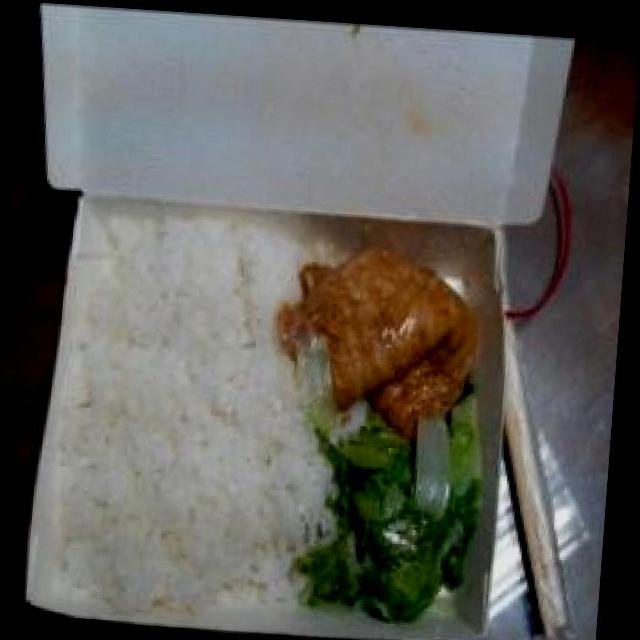rice: (86, 223, 300, 601)
